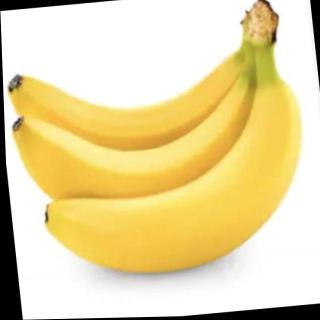banana: (28, 82, 316, 285), (7, 80, 276, 231), (3, 54, 260, 188)
